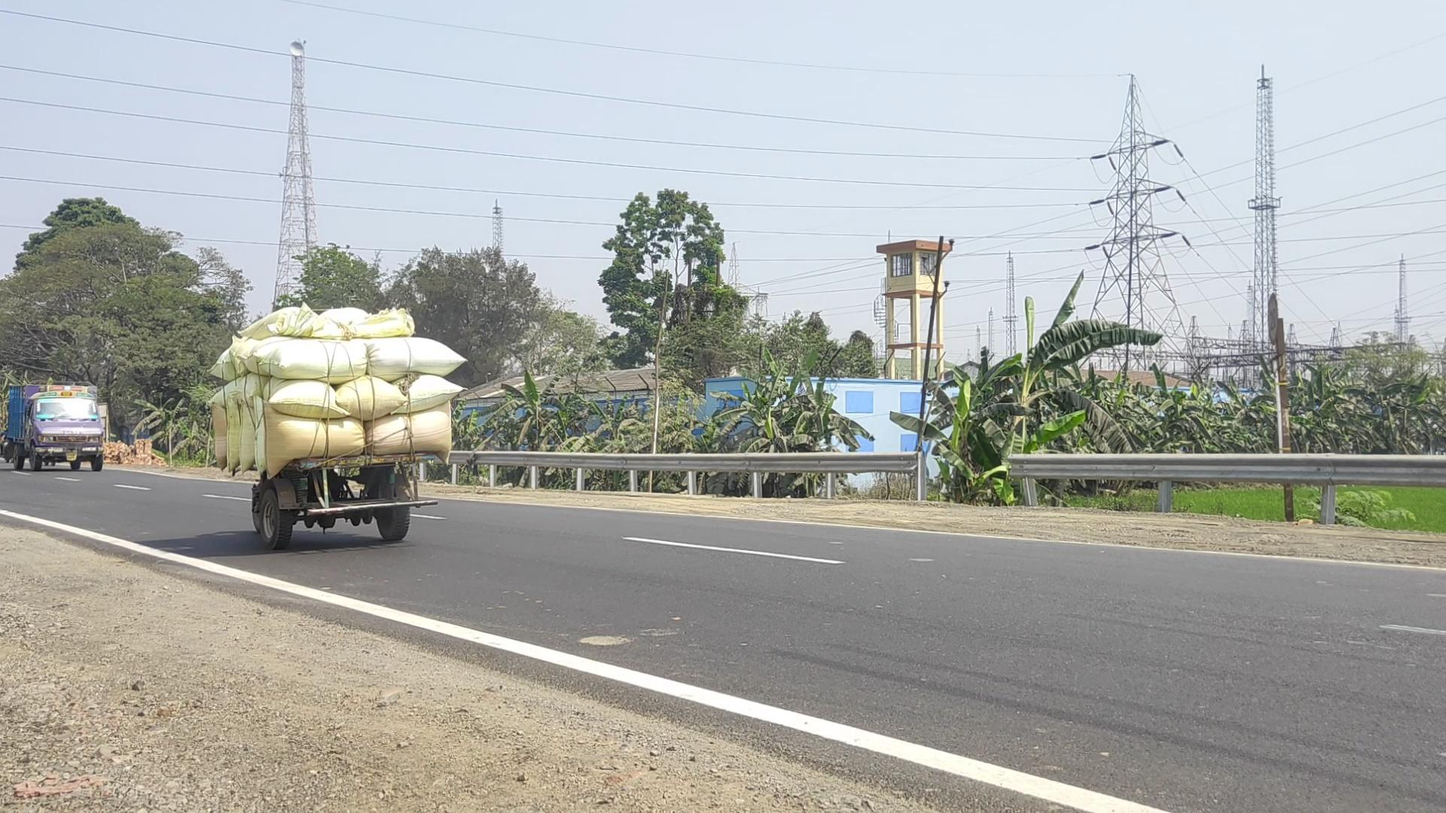truck: (8, 381, 105, 471)
